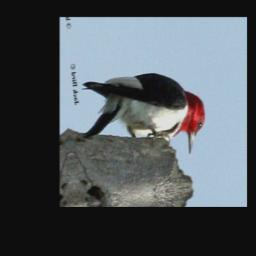Woodpecker: (79, 59, 210, 175)
